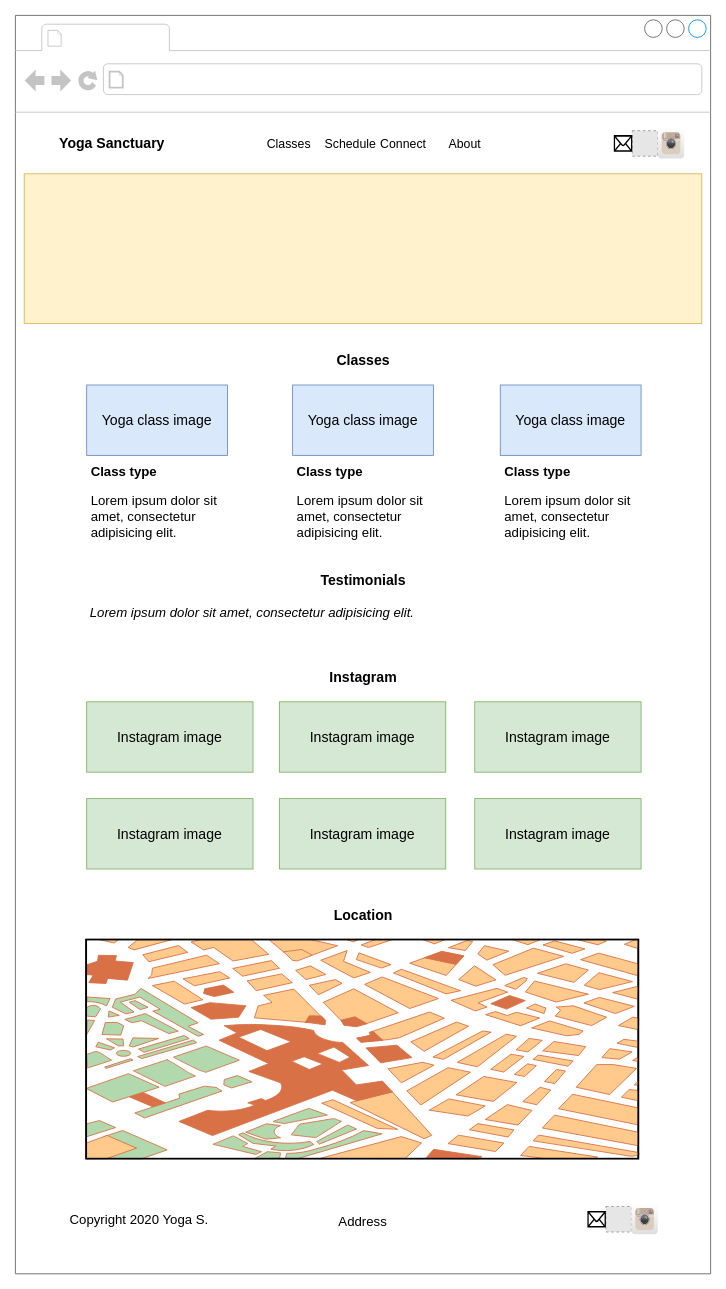
Image size: 726x1289. Some labels were removed from this diagram. Grey dashed boxes stand in for pictures. The shapes that lost their labels are listed below. From the top down, each one's centre as x and y in pixels, then its label:
At point 116,37: "Page 1".
At point 239,79: "https://www.yoga-sanctuary.com".
At point 362,248: "Main banner".
